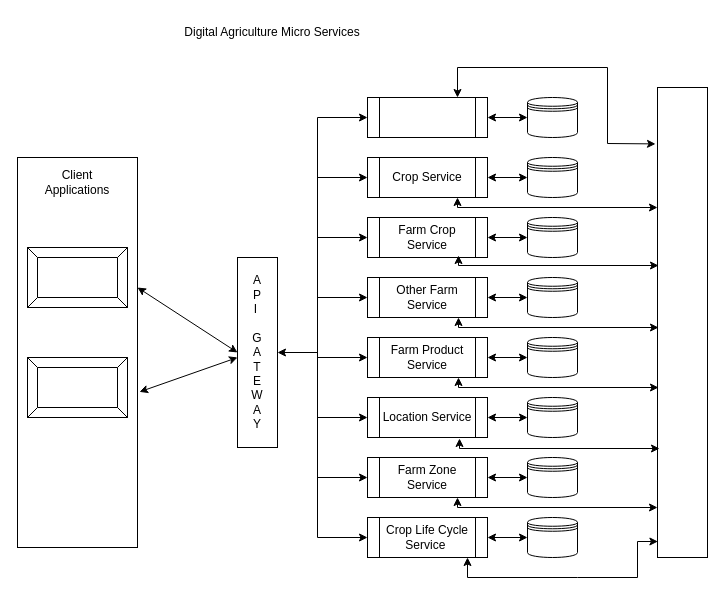
The diagram is 725 pixels wide and 604 high, and some of its shapes have lost their labels. The shapes that lost their labels are listed below. From the top down, each one's box as (x1, y1, x2, y2) in pixels, then its label:
(366, 96, 488, 138): Farm Service
(26, 246, 128, 308): Mobile
(656, 86, 708, 558): M E S S A G E B R O K E R
(26, 356, 128, 418): Web
